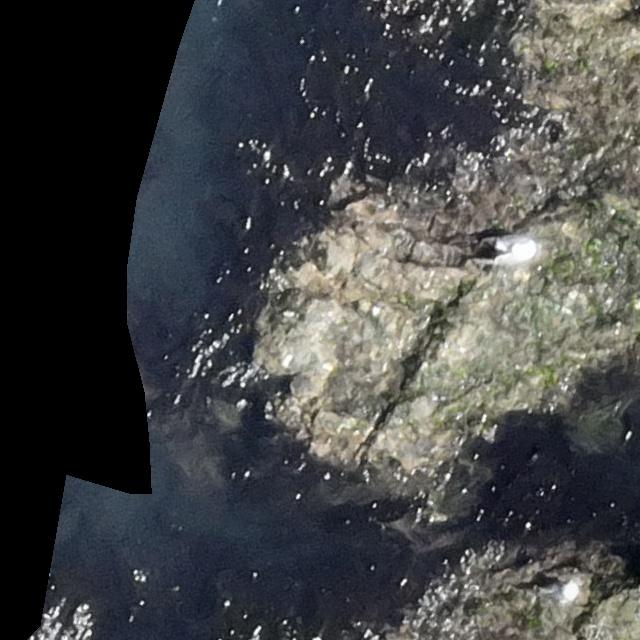umineko: (492, 236, 538, 260), (540, 579, 579, 604)
